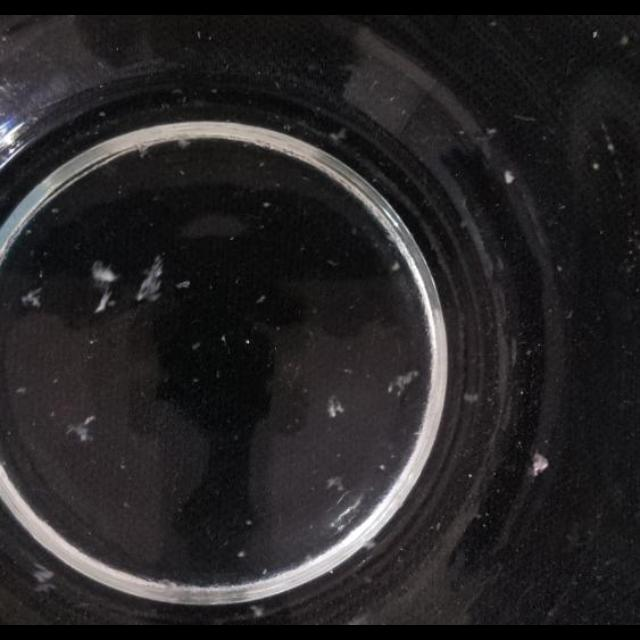Fibre: (134, 256, 166, 304), (66, 414, 96, 444), (387, 370, 418, 398), (600, 124, 620, 160), (90, 260, 118, 284), (21, 287, 44, 309), (326, 395, 346, 419), (328, 126, 348, 146), (33, 568, 56, 584), (326, 476, 346, 492), (176, 138, 192, 150)
microbeads: (530, 452, 548, 476), (34, 579, 58, 593), (250, 604, 264, 618), (503, 171, 515, 185), (84, 414, 96, 426), (364, 539, 376, 551), (175, 280, 191, 288), (390, 260, 400, 272), (256, 294, 266, 304), (220, 334, 228, 346), (14, 387, 26, 395), (192, 342, 202, 351), (89, 338, 98, 347), (590, 162, 600, 170), (123, 500, 131, 510), (237, 550, 246, 558), (436, 520, 442, 532), (378, 464, 386, 472), (245, 518, 253, 526), (556, 264, 564, 272), (108, 299, 116, 307), (262, 202, 272, 208), (120, 462, 126, 471), (467, 472, 473, 480), (262, 567, 268, 575), (244, 339, 250, 345)
